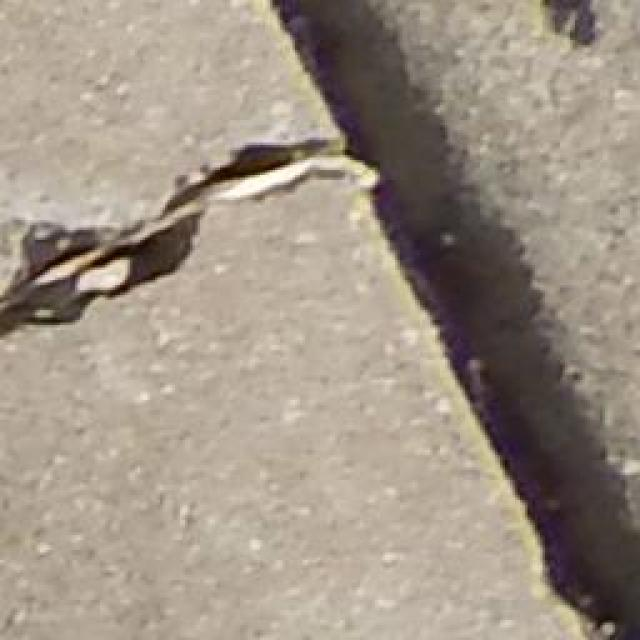concrete-crack: (0, 0, 640, 640)
